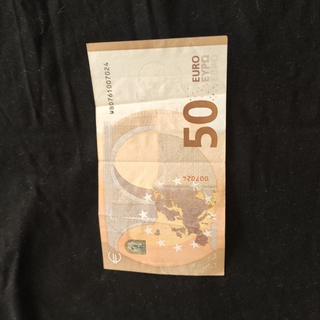50EUROBack: (84, 33, 229, 277)
